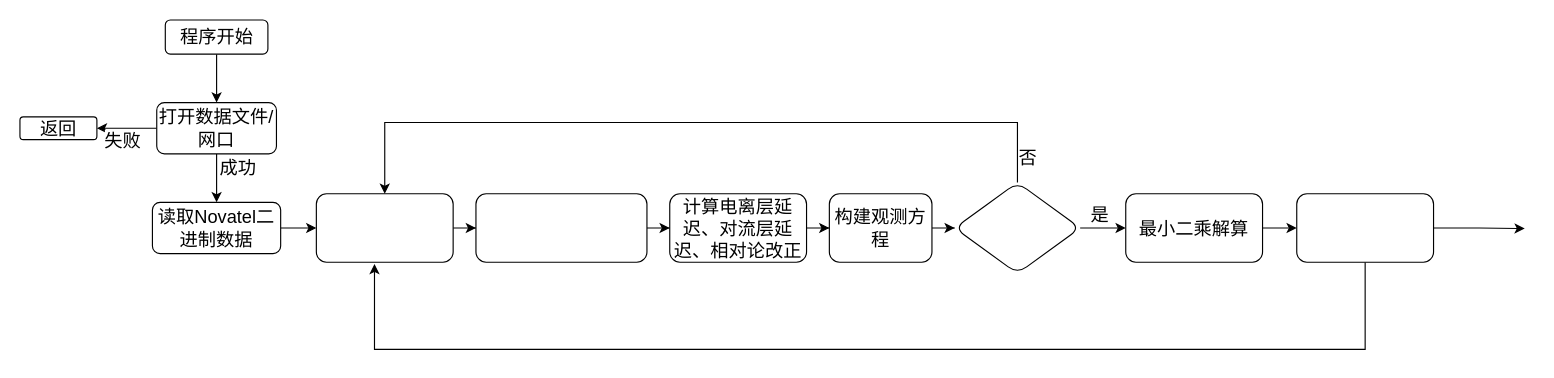
Image size: 1554x378. Some labels were removed from this diagram. Each missing label, with the box of its shape:
>4or5颗星: (954, 181, 1080, 274)
结果精度评定与输出: (1296, 193, 1434, 262)
解码获得观测数据广播星历: (315, 193, 453, 262)
计算卫星在信号发射 时刻的位置速度、钟 差钟速: (475, 193, 647, 262)
